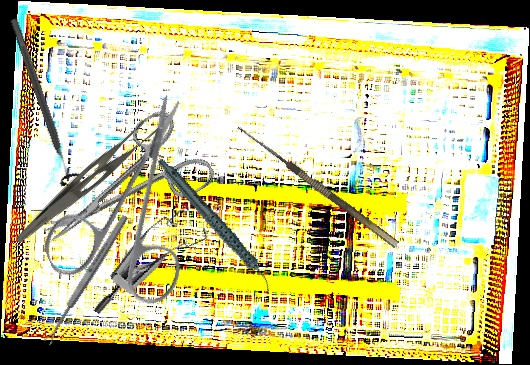Dressing Forceps: (14, 108, 164, 259)
Fixation Ring: (0, 14, 86, 188)
Handpiece: (156, 140, 275, 311)
Hook Surgical: (229, 122, 400, 258)
Iris Scissors: (7, 91, 250, 336), (22, 102, 219, 272)
Speculum: (92, 189, 216, 343)
Surgical Spoon: (42, 213, 130, 346)
